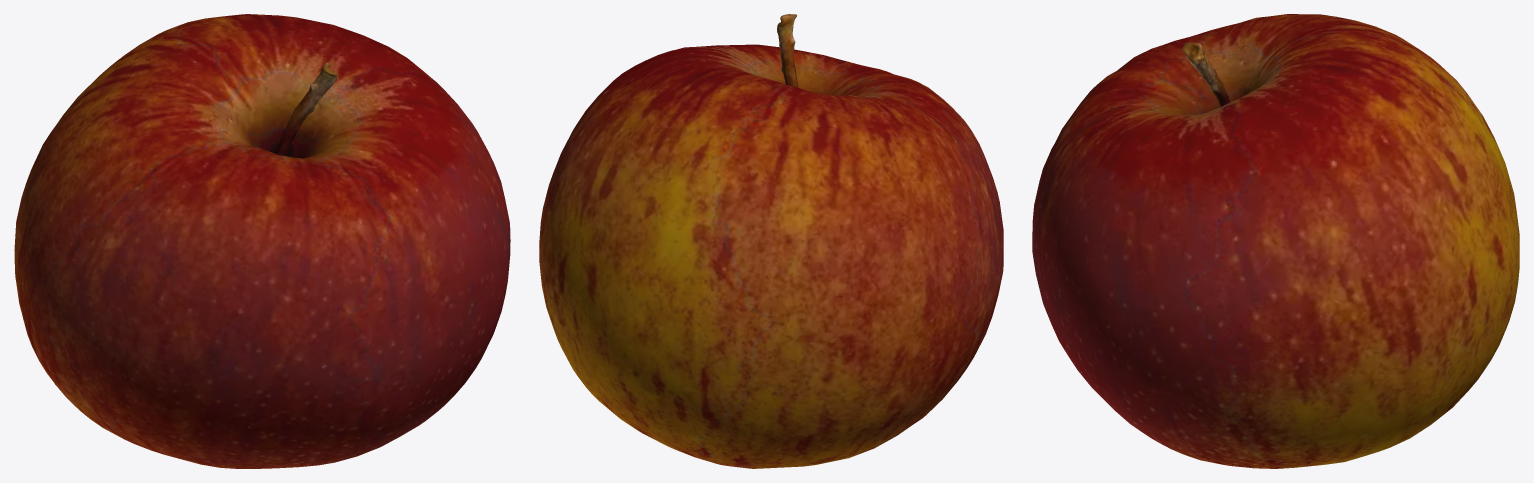
File: food_apple_01.glb
3 renders of one model, left to right at view 1: azimuth 30°, elevation 25°; view 2: azimuth 150°, elevation 25°; view 3: azimuth 270°, elevation 25°, orthographic. The views are drawn at different scales.
Visible parts, largest first — view 1: food_apple_01; view 2: food_apple_01; view 3: food_apple_01.
Boxes of the visible parts, bbox=[...] form: food_apple_01: bbox=[14, 14, 510, 468]; food_apple_01: bbox=[539, 14, 1003, 468]; food_apple_01: bbox=[1032, 14, 1519, 468].
Bounding box in the file's own units: 0.0976 × 0.0854 × 0.0959.
1 material, 1 textured.
